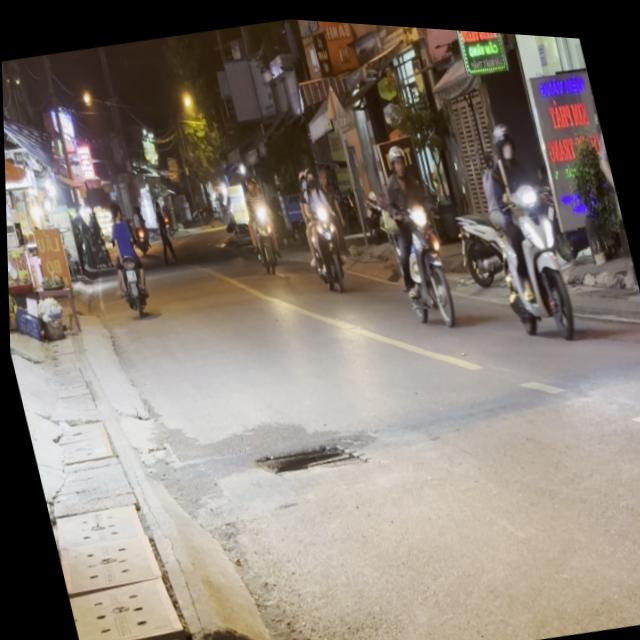helmet: (490, 113, 518, 156), (385, 136, 408, 171)
licenseplate: (463, 103, 585, 343), (574, 48, 640, 374), (367, 130, 462, 327)
